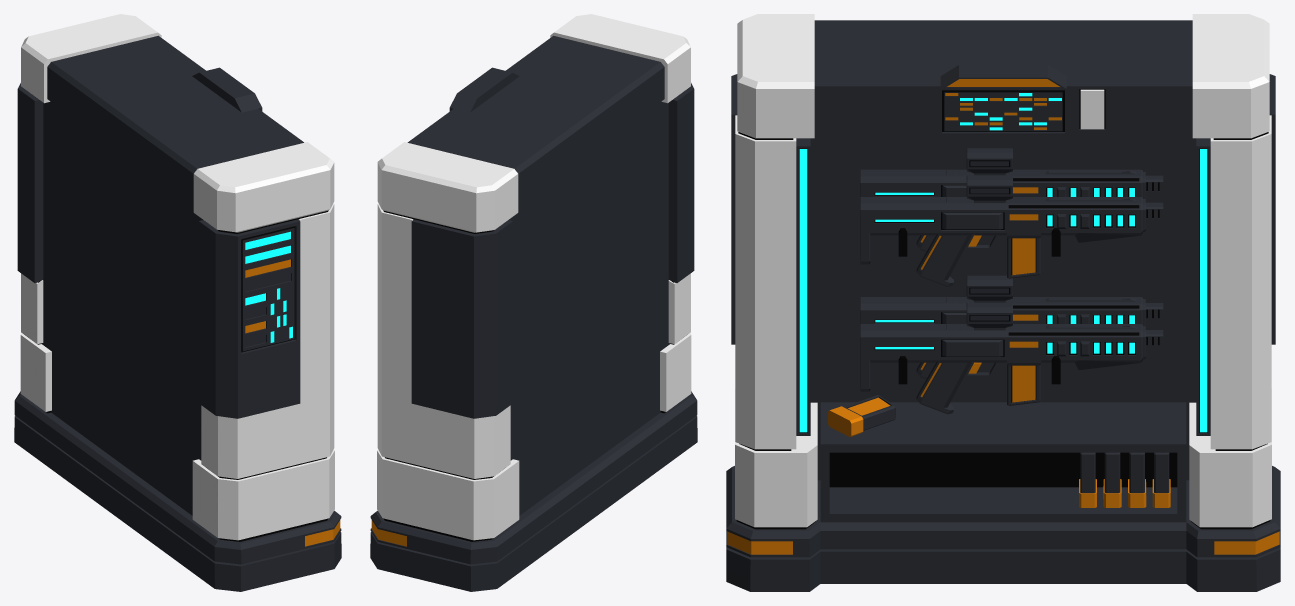
Rendered from SM_WeaponRack.fbx.
The picture shows the model from 3 angles, left to right: view 1: azimuth 30°, elevation 25°; view 2: azimuth 150°, elevation 25°; view 3: azimuth 270°, elevation 25°; orthographic projection. The views are drawn at different scales.
Visible parts, largest first — view 1: SM_WeaponRack; view 2: SM_WeaponRack; view 3: SM_WeaponRack.
Part boxes in pixels (left/top/right/bottom): SM_WeaponRack: left=14, top=14, right=341, bottom=591; SM_WeaponRack: left=370, top=14, right=697, bottom=591; SM_WeaponRack: left=726, top=14, right=1280, bottom=591.
Size of the model in its own units: 60 by 183 by 180.
